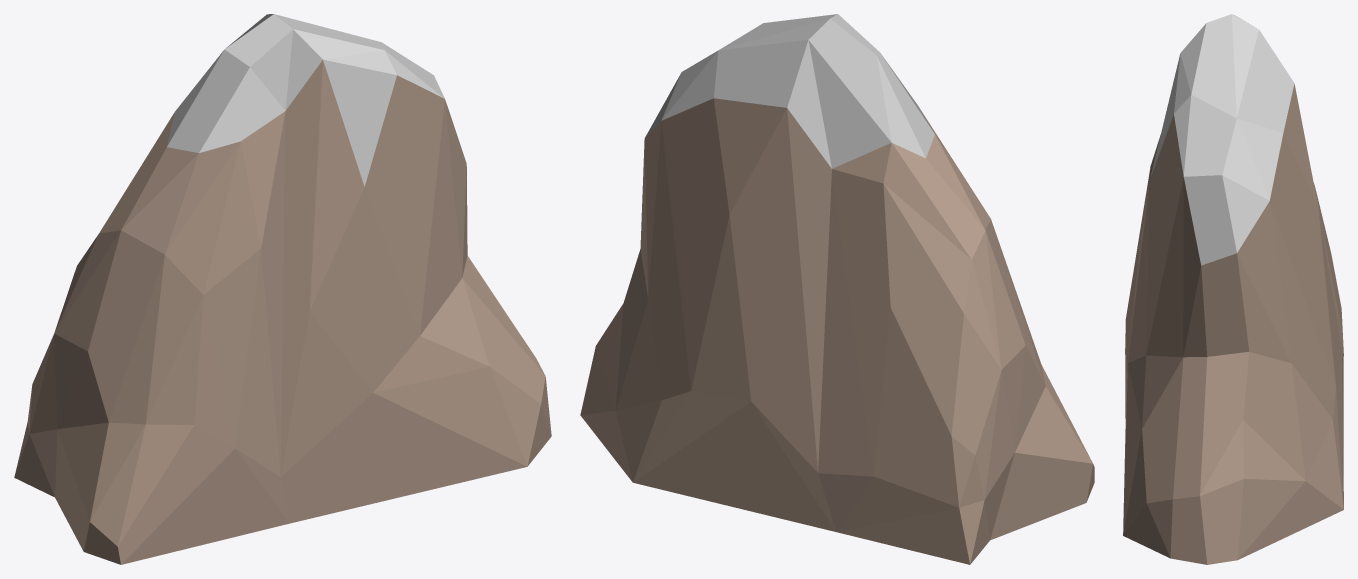
Rendered from mountain4.fbx.
3 renders of one model, left to right at view 1: azimuth 30°, elevation 25°; view 2: azimuth 150°, elevation 25°; view 3: azimuth 270°, elevation 25°, orthographic. The views are drawn at different scales.
Visible parts, largest first — view 1: Plane.002; view 2: Plane.002; view 3: Plane.002.
Boxes of the visible parts, x1,y1,x2,y2 form: Plane.002: (14,14,551,564); Plane.002: (580,14,1094,564); Plane.002: (1123,14,1343,564).
Bounding box in the file's own units: 9.65 × 8.74 × 4.05.
